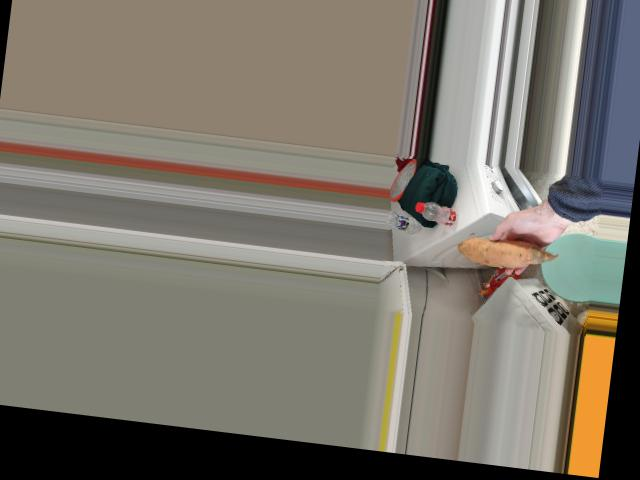sweet_potato: (468, 228, 540, 267)
